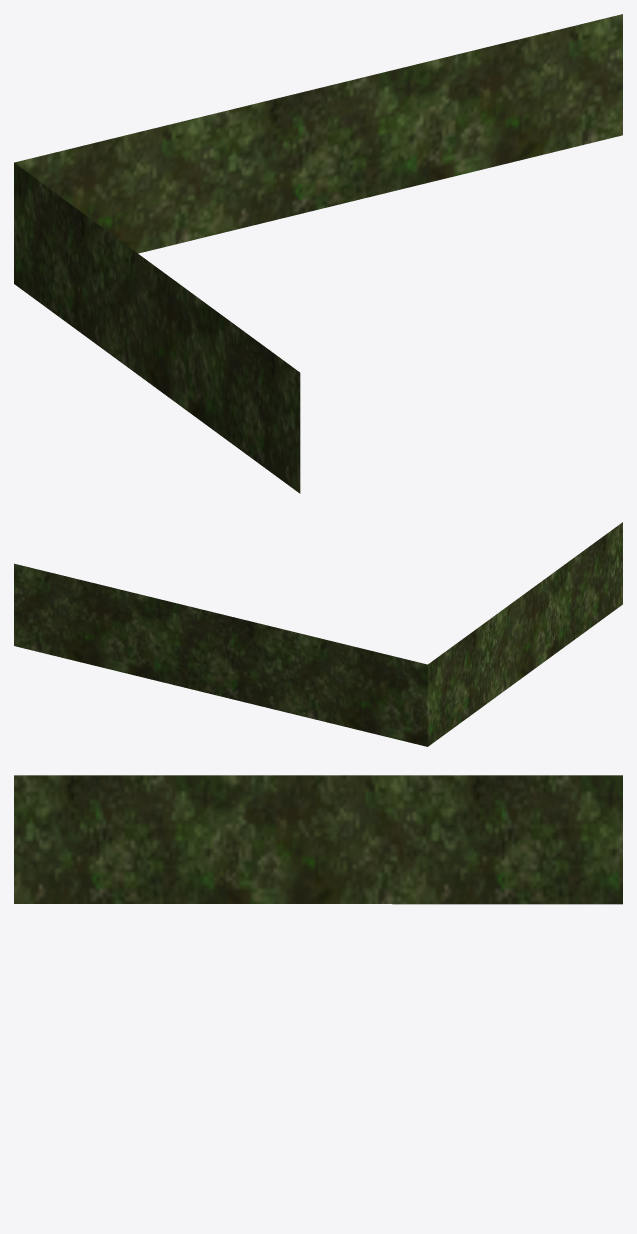
The model's file is OVERHILL_A_01_OBJECT129.fbx.
3 renders of one model, top to bottom at view 1: azimuth 30°, elevation 25°; view 2: azimuth 150°, elevation 25°; view 3: azimuth 270°, elevation 25°, orthographic. The views are drawn at different scales.
Visible parts, largest first — view 1: OVERHILL_A_01_OBJECT129; view 2: OVERHILL_A_01_OBJECT129; view 3: OVERHILL_A_01_OBJECT129.
Boxes of the visible parts, left/top/right/bottom form: OVERHILL_A_01_OBJECT129: left=14, top=14, right=622, bottom=493; OVERHILL_A_01_OBJECT129: left=14, top=522, right=622, bottom=746; OVERHILL_A_01_OBJECT129: left=14, top=775, right=622, bottom=904.
Size of the model in its own units: 39986 by 7605 by 32591.
Materials: 1 (1 with a texture image).
